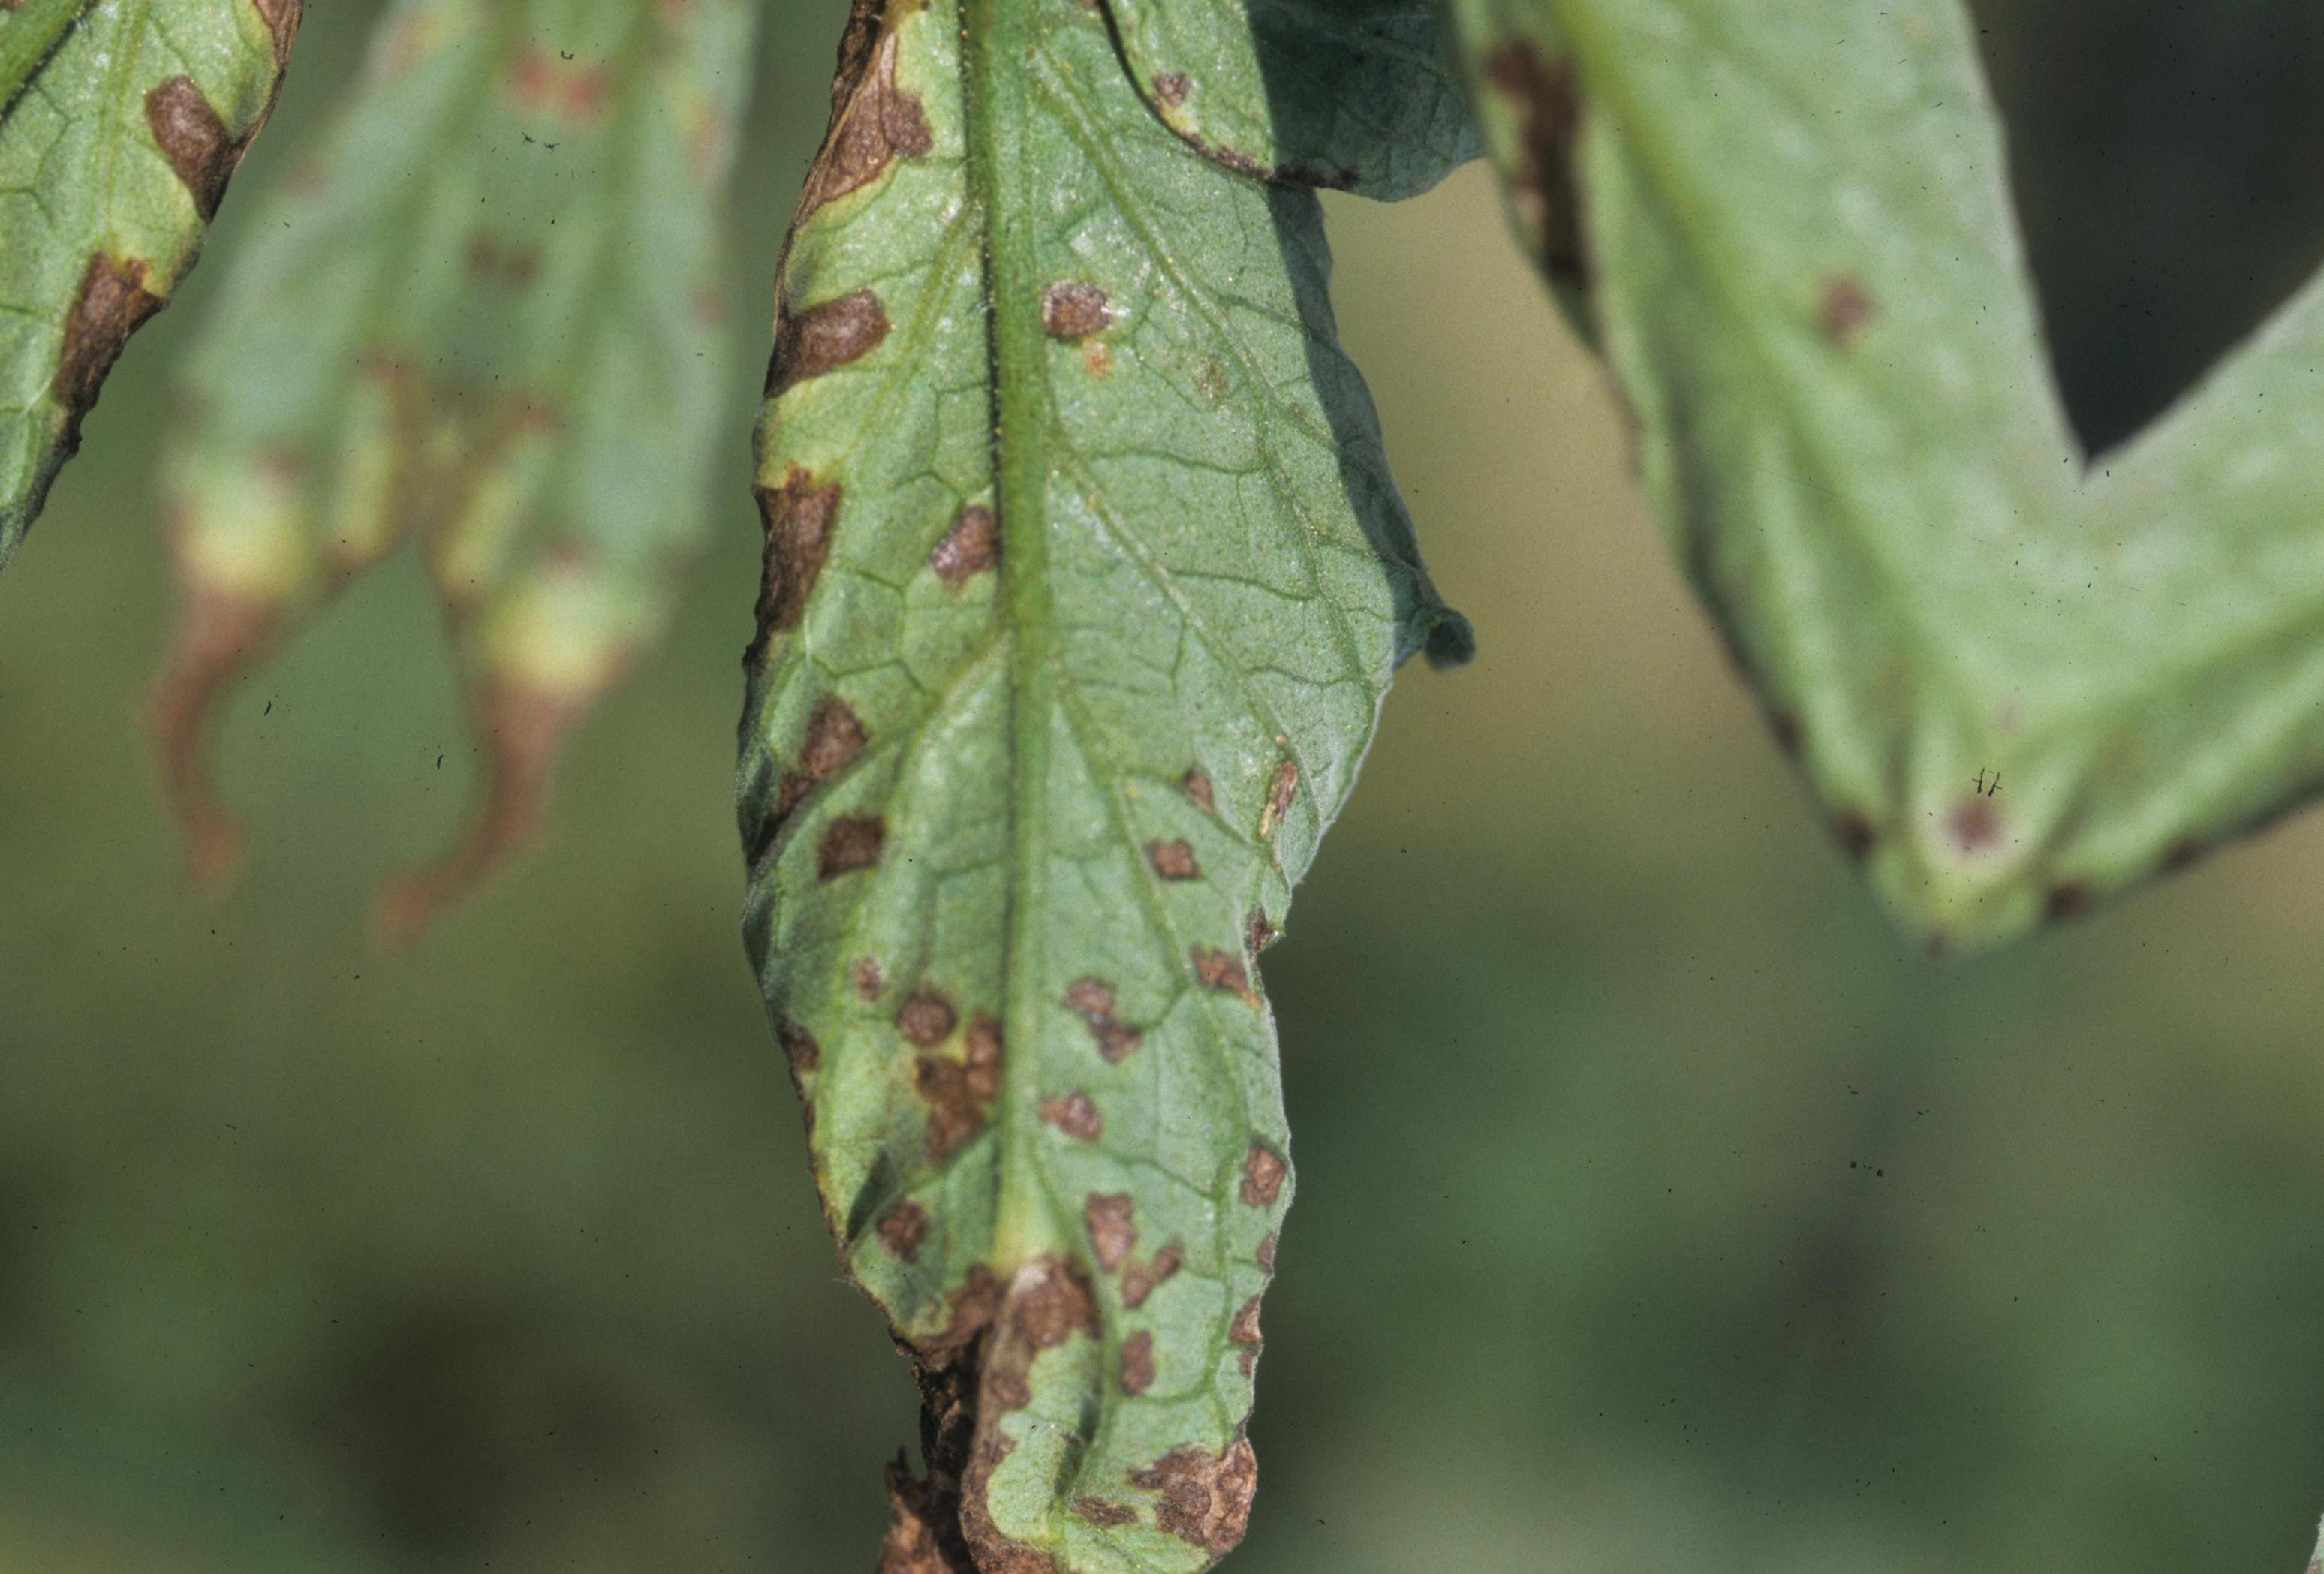Tomato leaf bacterial spot: (242, 0, 1772, 1574)
